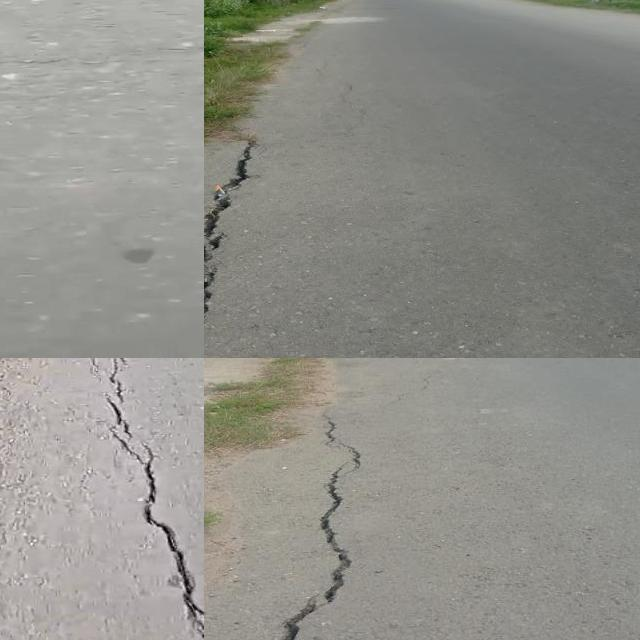Memanjang: (88, 358, 204, 640), (260, 407, 373, 640), (204, 130, 264, 346)
